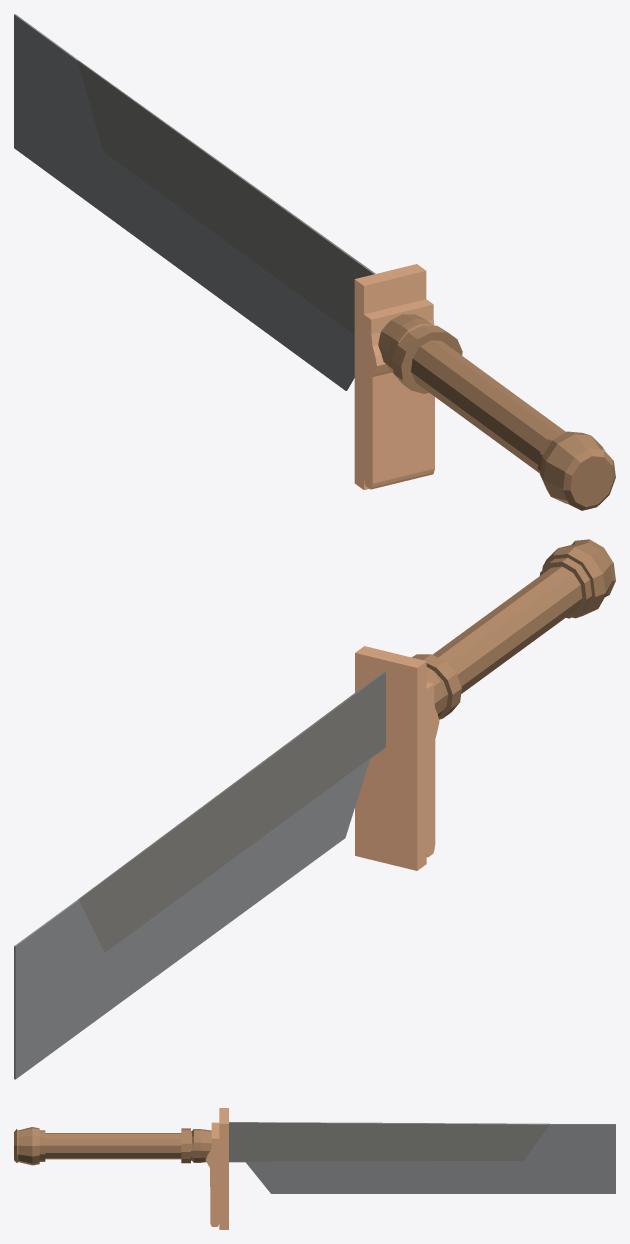
Rendered from machete.fbx.
The picture shows the model from 3 angles, top to bottom: view 1: azimuth 30°, elevation 25°; view 2: azimuth 150°, elevation 25°; view 3: azimuth 270°, elevation 25°; orthographic projection. The views are drawn at different scales.
Visible parts, largest first — view 1: blade, blade holder, handle piece, handle, handle head; view 2: blade, blade holder, handle piece, handle, handle head; view 3: blade, blade holder, handle, handle piece, handle head.
Part boxes in pixels (bbox=[...]): blade: bbox=[14, 14, 354, 390]; blade holder: bbox=[77, 60, 375, 334]; handle piece: bbox=[354, 264, 434, 489]; handle: bbox=[411, 340, 615, 510]; handle head: bbox=[378, 314, 462, 393]; blade: bbox=[14, 747, 385, 1079]; blade holder: bbox=[77, 671, 385, 952]; handle piece: bbox=[355, 646, 439, 870]; handle: bbox=[432, 539, 615, 693]; handle head: bbox=[412, 654, 461, 719]; blade: bbox=[229, 1124, 615, 1193]; blade holder: bbox=[229, 1122, 549, 1161]; handle: bbox=[14, 1127, 181, 1165]; handle piece: bbox=[205, 1108, 228, 1229]; handle head: bbox=[181, 1128, 211, 1163].
Bounding box in the file's own units: 0.4827 × 1.5 × 7.72.
